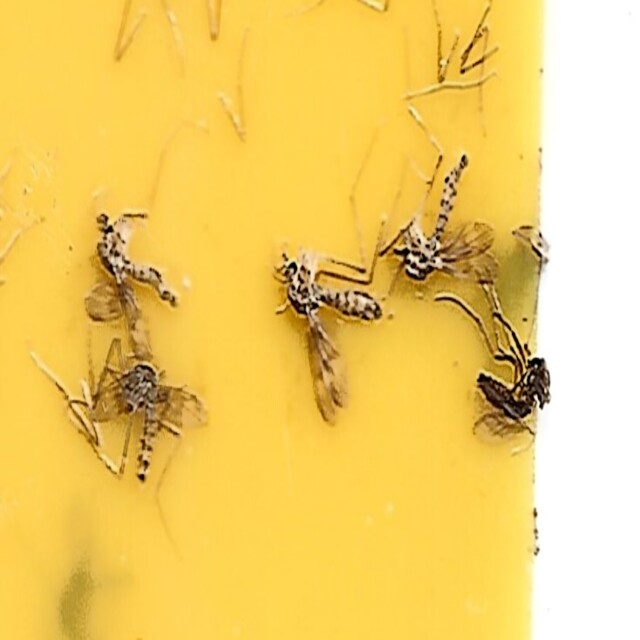Nematocera: (278, 246, 386, 423), (394, 151, 498, 302), (102, 350, 207, 489), (87, 196, 191, 331), (466, 338, 553, 456)
